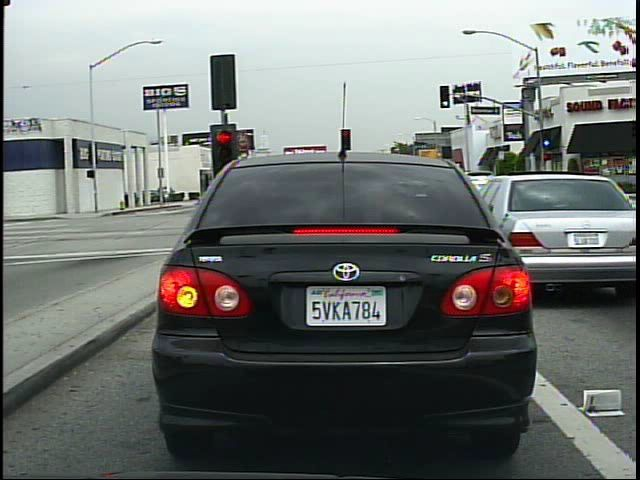person: (517, 168, 533, 201), (164, 183, 172, 206)
